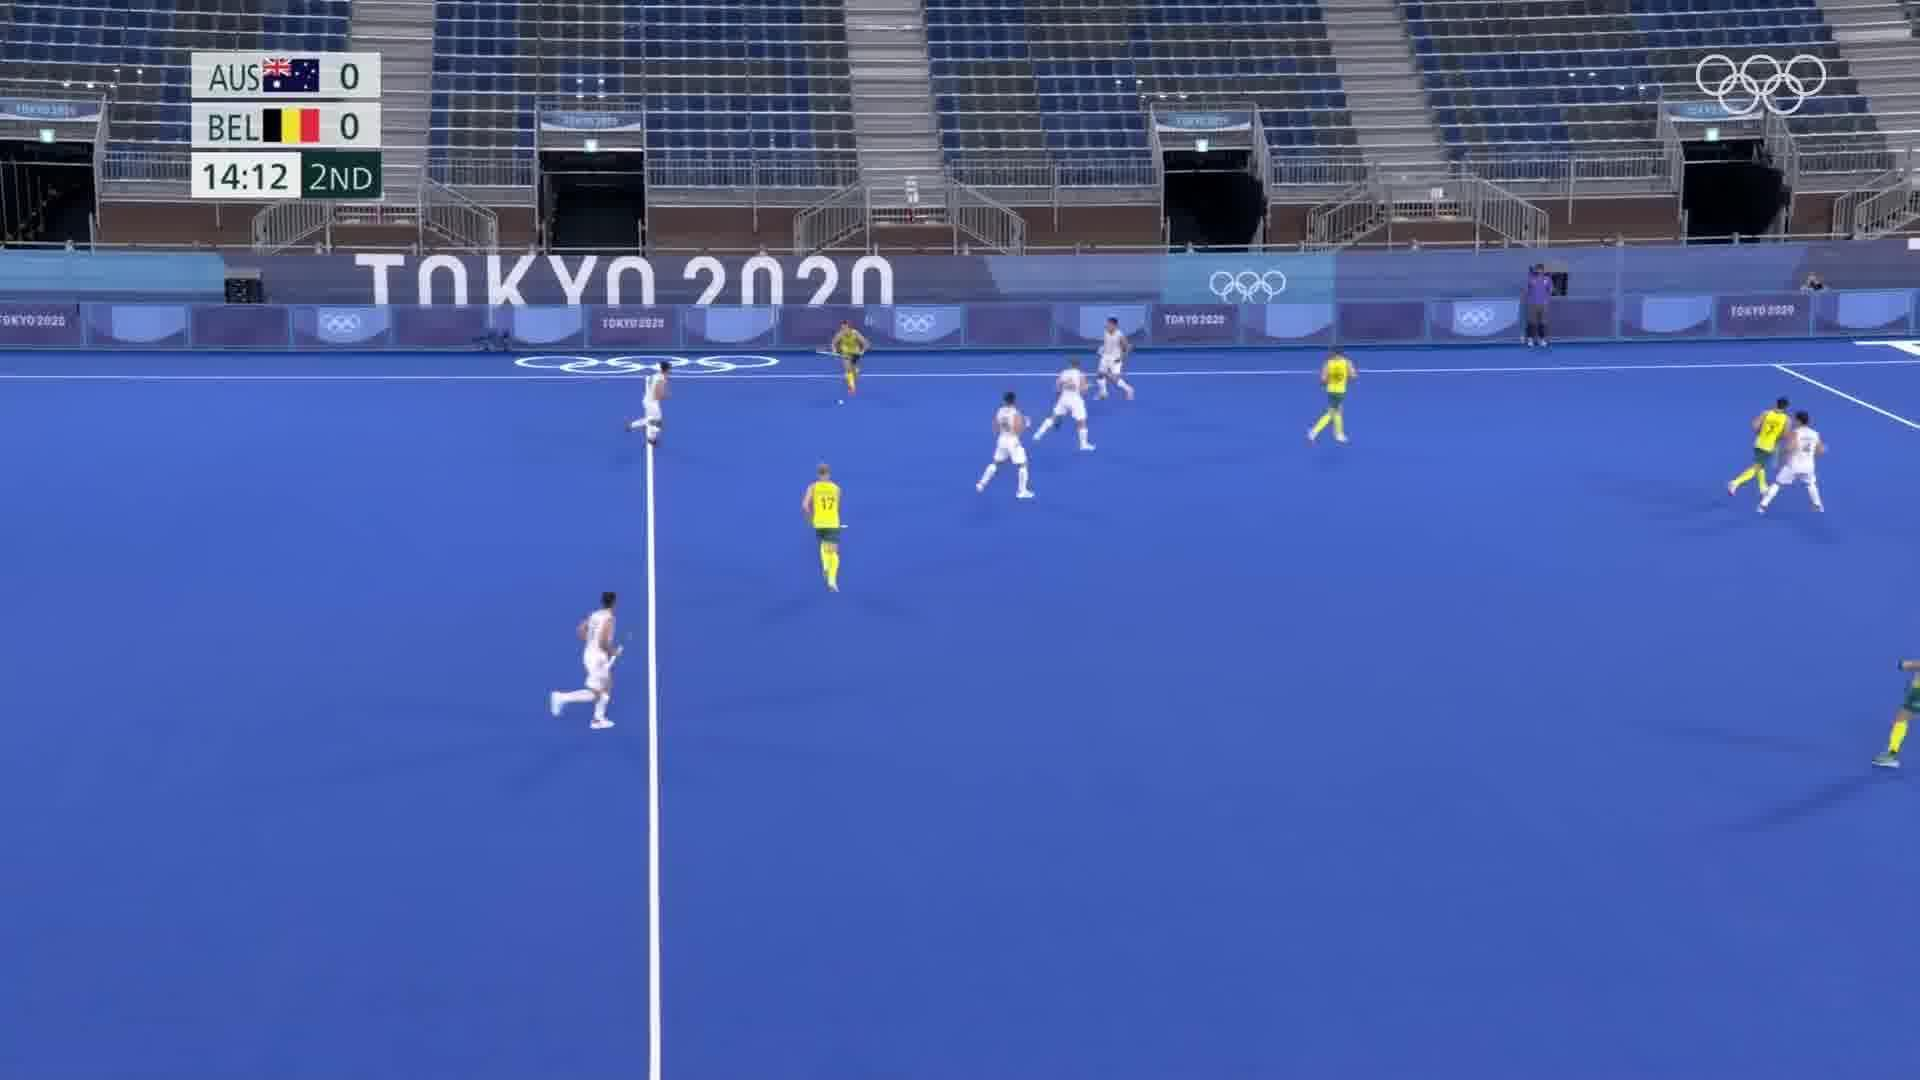ball: (832, 394, 851, 414)
